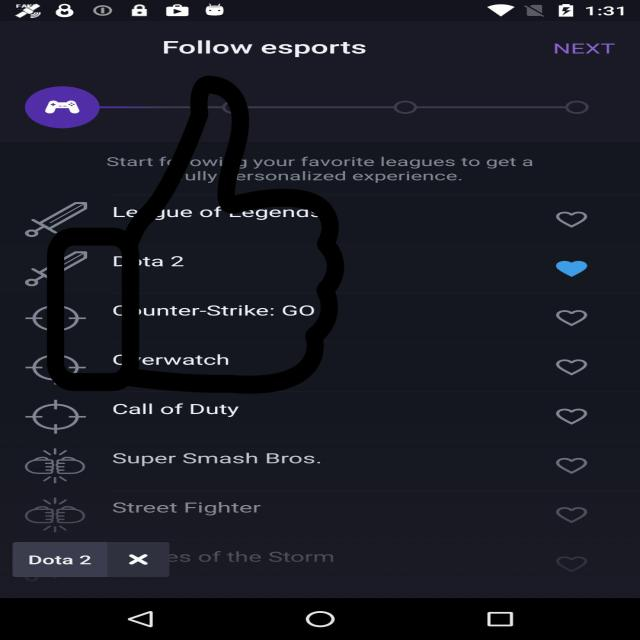privacy zuckering: (42, 75, 348, 394)
